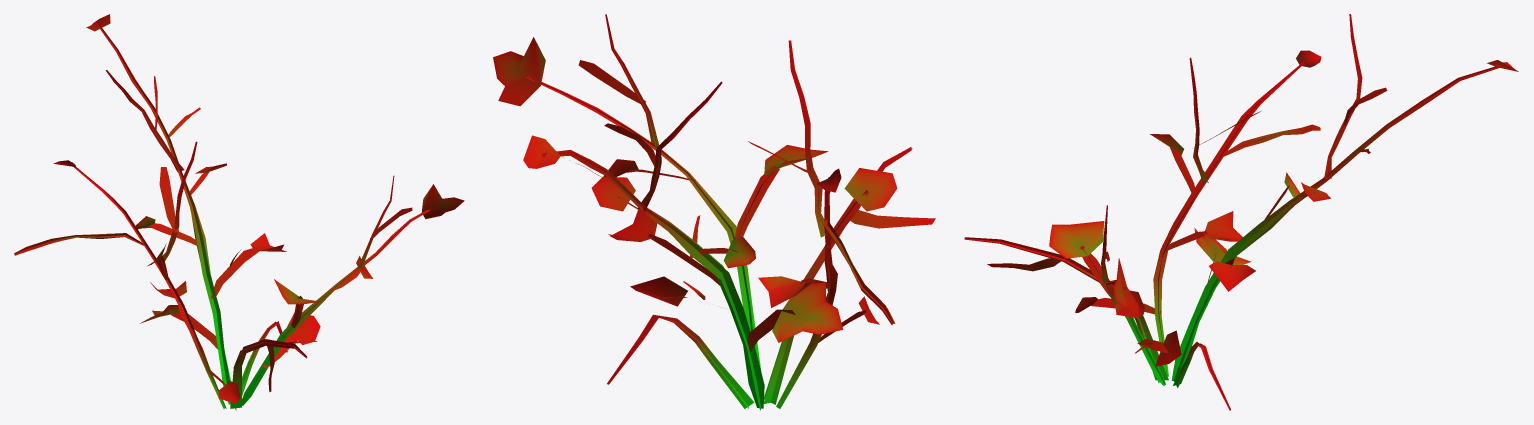
The model's file is Blackberry_LOD3_Var12_vkmofctha.fbx.
3 renders of one model, left to right at view 1: azimuth 30°, elevation 25°; view 2: azimuth 150°, elevation 25°; view 3: azimuth 270°, elevation 25°, orthographic. The views are drawn at different scales.
Parts seen in each view (by area): view 1: _te22_Var12_LOD3; view 2: _te22_Var12_LOD3; view 3: _te22_Var12_LOD3.
Part boxes in pixels (<box>): _te22_Var12_LOD3: <box>14,14,464,410</box>; _te22_Var12_LOD3: <box>493,14,935,410</box>; _te22_Var12_LOD3: <box>964,14,1518,410</box>.
Bounding box in the file's own units: 81.93 × 63.15 × 93.02.
